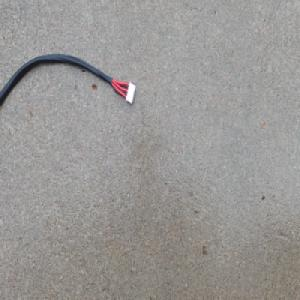Wire: (0, 53, 137, 117)
